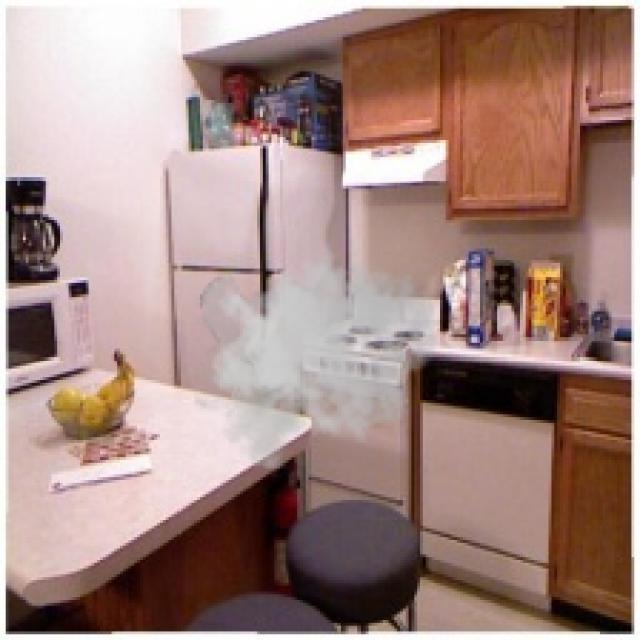Smoke: (194, 234, 440, 469)
